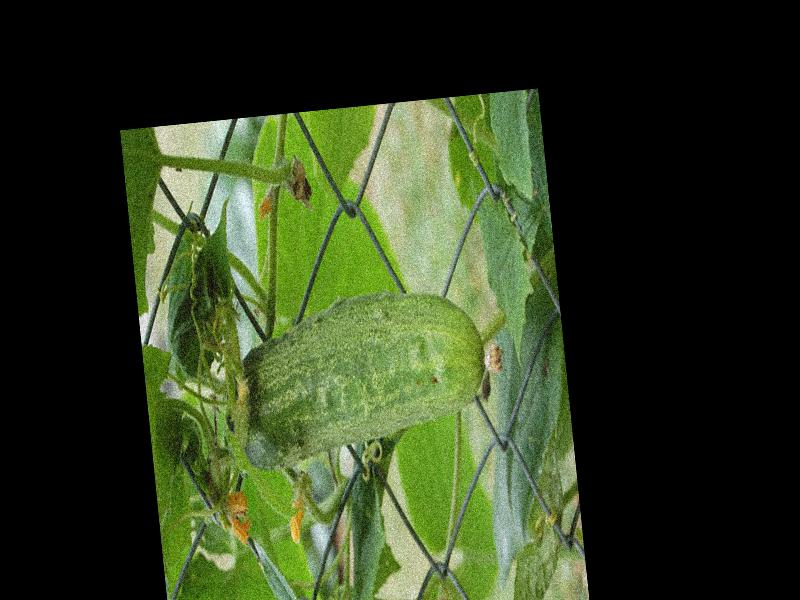Cucumber: (218, 285, 508, 469)
